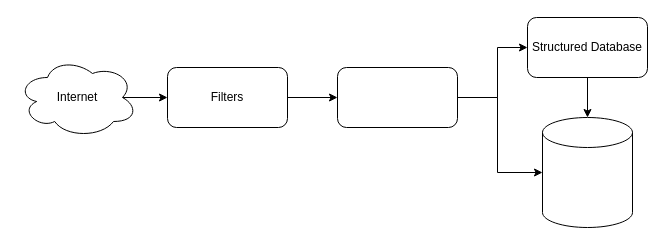
The diagram is 665 pixels wide and 245 high, and some of its shapes have lost their labels. The shapes that lost their labels are listed below. From the top down, each one's centre as x and y in pixels, then its label:
At pixel 397 97: "Web Application Microservices".
At pixel 587 172: "Data Stores".
